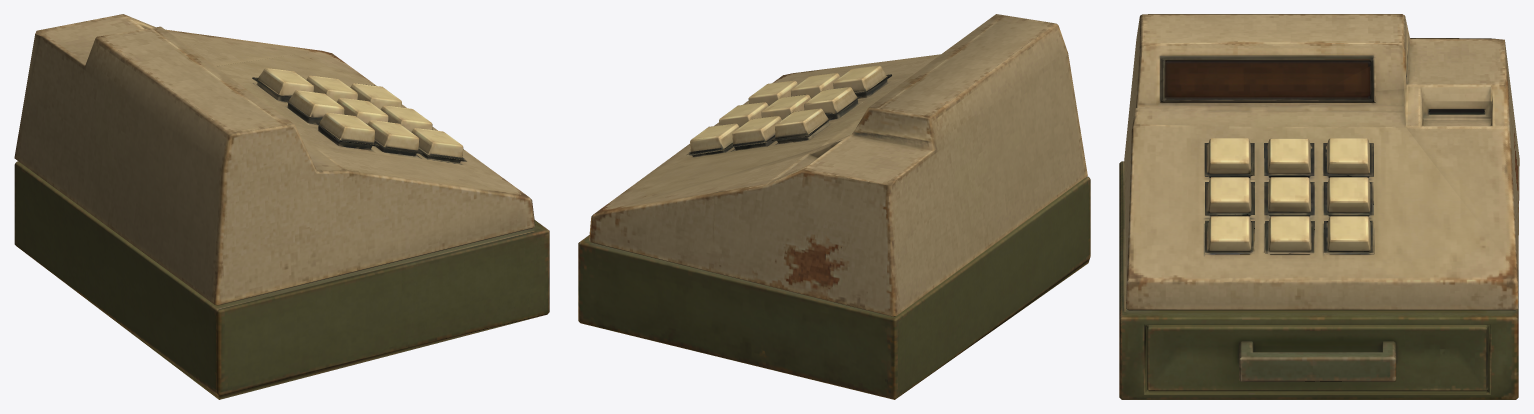
The model's file is P02_register_source.fbx.
The picture shows the model from 3 angles, left to right: view 1: azimuth 30°, elevation 25°; view 2: azimuth 150°, elevation 25°; view 3: azimuth 270°, elevation 25°; orthographic projection. The views are drawn at different scales.
Parts seen in each view (by area): view 1: tripo_379004fc_02de_4e3c_a34a_56298118c91a; view 2: tripo_379004fc_02de_4e3c_a34a_56298118c91a; view 3: tripo_379004fc_02de_4e3c_a34a_56298118c91a.
Boxes of the visible parts, x1,y1,x2,y2 form: tripo_379004fc_02de_4e3c_a34a_56298118c91a: [14, 14, 549, 399]; tripo_379004fc_02de_4e3c_a34a_56298118c91a: [578, 14, 1090, 399]; tripo_379004fc_02de_4e3c_a34a_56298118c91a: [1119, 14, 1519, 399].
Bounding box in the file's own units: 0.9995 × 0.6587 × 0.9712.
1 material, 1 textured.
